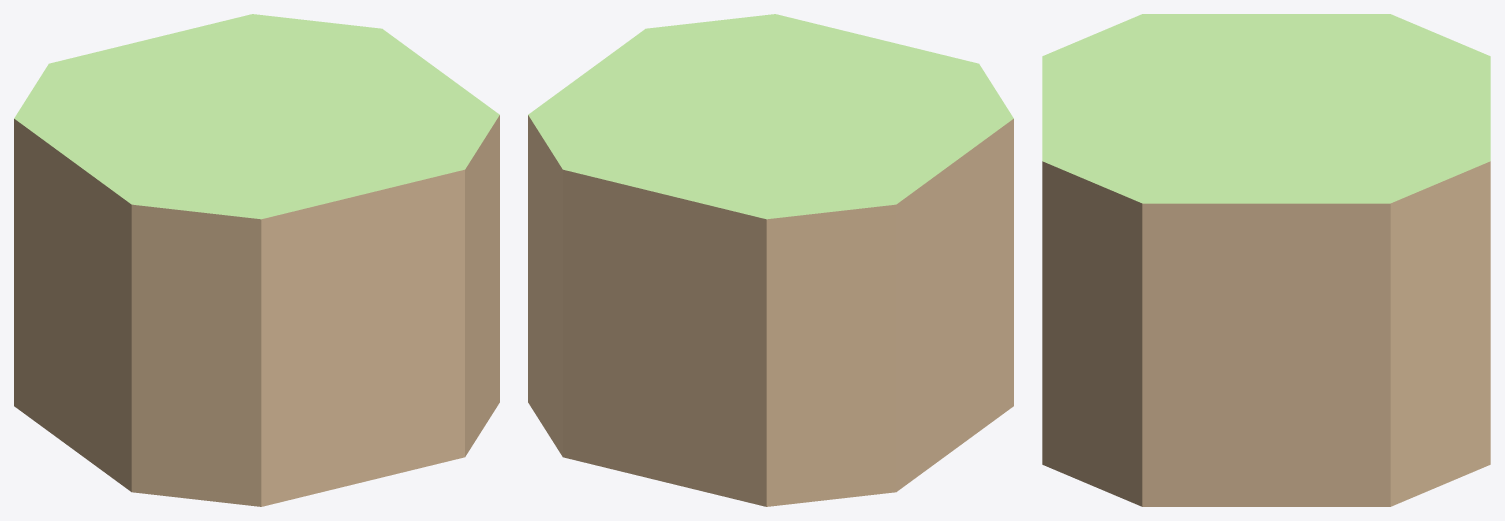
3 renders of one model, left to right at view 1: azimuth 30°, elevation 25°; view 2: azimuth 150°, elevation 25°; view 3: azimuth 270°, elevation 25°, orthographic. The views are drawn at different scales.
Visible parts, largest first — view 1: Object04; view 2: Object04; view 3: Object04.
Part boxes in pixels (box(x1,y1,x2,y2)): Object04: box(14, 14, 499, 506); Object04: box(528, 14, 1013, 506); Object04: box(1042, 14, 1490, 506).
Bounding box in the file's own units: 100 × 74.65 × 100.
